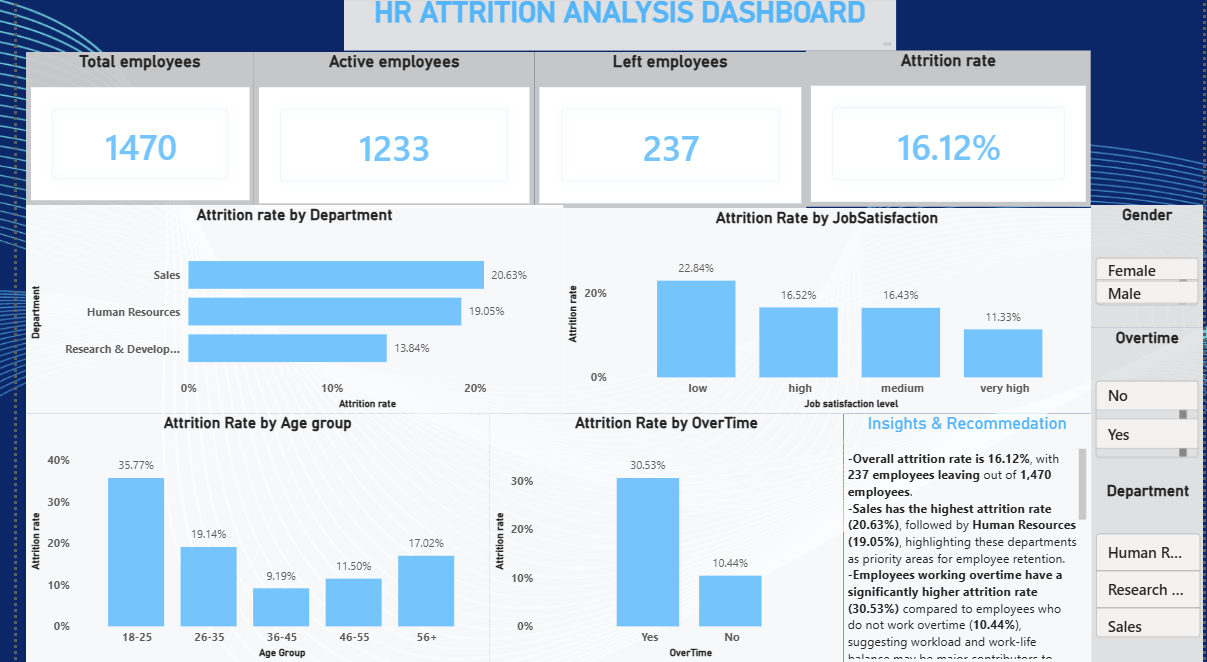

What the dashboard file says about the page in this screenshot:
{"tool":"powerbi","page":{"name":"Page 1","canvas":[1280,720],"ordinal":1},"visuals":[{"type":"cardVisual","title":"Total employees","fields":{"Data":["Table2.Total employees"]},"box":[9.7,61.5,246.1,165.2],"z":0},{"type":"cardVisual","title":"Active employees","fields":{"Data":["Table2.Active employees"]},"box":[255.8,61.5,302.8,168.4],"z":1000},{"type":"cardVisual","title":"Left employees","fields":{"Data":["Table2.Employees lost"]},"box":[558.6,61.5,293.1,168.4],"z":2000},{"type":"cardVisual","title":"Attrition rate","fields":{"Data":["Table2.Attrition rate"]},"box":[851.7,59.9,307.7,168.4],"z":3000},{"type":"clusteredBarChart","title":"Attrition rate by Department","fields":{"Category":["Table2.Department"],"Y":["Table2.Attrition rate"]},"box":[9.7,226.7,579.7,225.1],"z":4000},{"type":"clusteredColumnChart","title":"Attrition Rate by Age group","fields":{"Y":["Table2.Attrition rate"],"Category":["Table2.Age Group"]},"box":[9.7,451.8,500.3,268.8],"z":5000},{"type":"clusteredColumnChart","title":"Attrition Rate by OverTime","fields":{"Category":["Table2.OverTime"],"Y":["Table2.Attrition rate"]},"box":[510.1,451.8,382.1,268.8],"z":6000},{"type":"clusteredColumnChart","title":"Attrition Rate by JobSatisfaction","fields":{"Y":["Table2.Attrition rate"],"Category":["Table2.Job satisfaction level"]},"box":[589.4,229.9,570,221.8],"z":7000},{"type":"cardVisual","title":"Gender","fields":{"Rows":["Table2.Gender"]},"box":[1159.4,226.7,121.4,132.8],"z":8000},{"type":"cardVisual","title":"Overtime","fields":{"Rows":["Table2.Attrition"]},"box":[1159.4,359.5,121.4,165.2],"z":9000},{"type":"cardVisual","title":"Department","fields":{"Rows":["Table2.Department"]},"box":[1159.4,524.6,123.1,195.9],"z":10000},{"type":"textbox","title":"HR ATTRITION ANALYSIS DASHBOARD","box":[353,0,560.3,59.9],"z":10001},{"type":"textbox","title":"Insights & Recommedation","box":[892.2,451.8,267.2,268.8],"z":10002}]}

Visuals, with their boxes in screenshot pixels (x1, y1, x2, y2), scaled from the page's 1280x720 canvas onto the 1207x662 screenshot:
"Total employees" cardVisual: (x1=9, y1=57, x2=241, y2=208)
"Active employees" cardVisual: (x1=241, y1=57, x2=527, y2=211)
"Left employees" cardVisual: (x1=527, y1=57, x2=803, y2=211)
"Attrition rate" cardVisual: (x1=803, y1=55, x2=1093, y2=210)
"Attrition rate by Department" clusteredBarChart: (x1=9, y1=208, x2=556, y2=415)
"Attrition Rate by Age group" clusteredColumnChart: (x1=9, y1=415, x2=481, y2=661)
"Attrition Rate by OverTime" clusteredColumnChart: (x1=481, y1=415, x2=841, y2=661)
"Attrition Rate by JobSatisfaction" clusteredColumnChart: (x1=556, y1=211, x2=1093, y2=415)
"Gender" cardVisual: (x1=1093, y1=208, x2=1206, y2=331)
"Overtime" cardVisual: (x1=1093, y1=331, x2=1206, y2=482)
"Department" cardVisual: (x1=1093, y1=482, x2=1206, y2=661)
"HR ATTRITION ANALYSIS DASHBOARD" textbox: (x1=333, y1=0, x2=861, y2=55)
"Insights & Recommedation" textbox: (x1=841, y1=415, x2=1093, y2=661)
